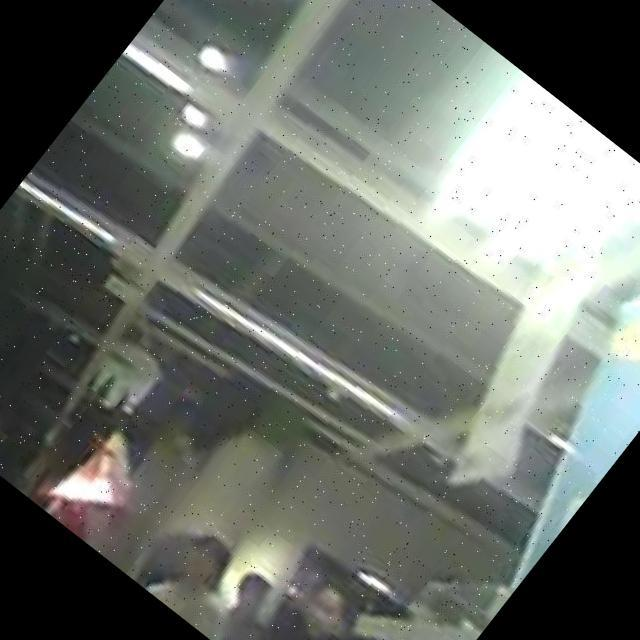person: (136, 514, 281, 640), (238, 567, 389, 640), (204, 563, 296, 640)
